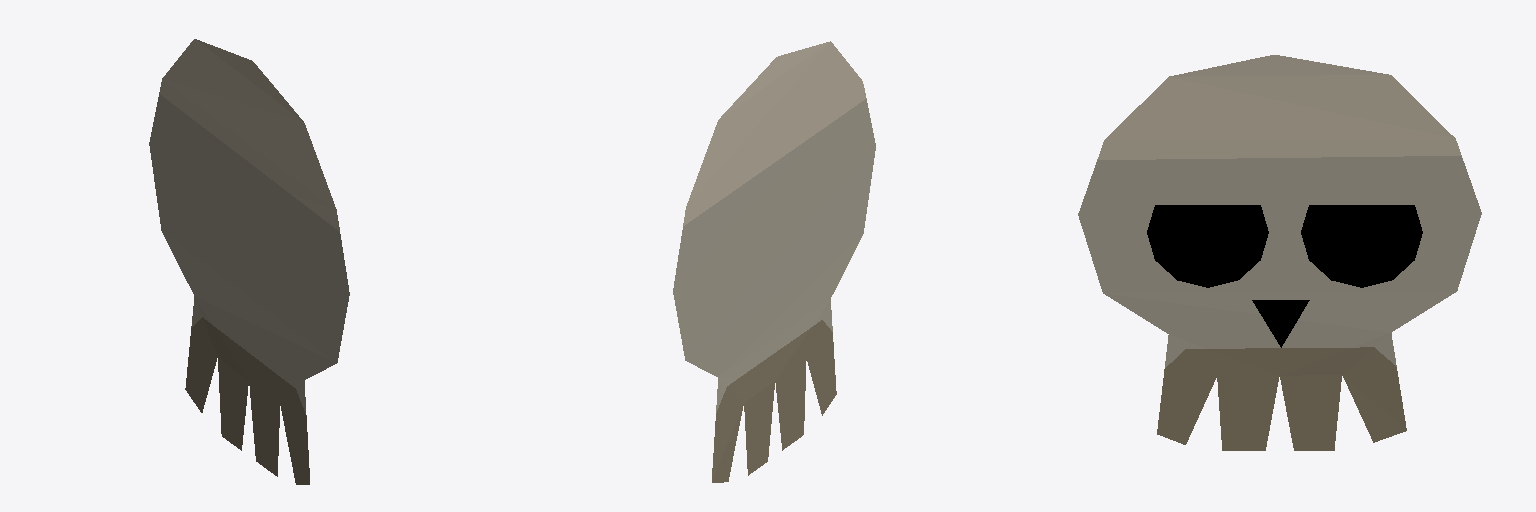
3 views of the same model, side by side, from view 1: azimuth 30°, elevation 25°; view 2: azimuth 150°, elevation 25°; view 3: azimuth 270°, elevation 25° (orthographic).
Visible parts, largest first — view 1: skull; view 2: skull; view 3: skull.
Part boxes in pixels (x1,y1,x2,y2): skull: (149, 39, 349, 484); skull: (673, 41, 875, 482); skull: (1078, 55, 1481, 450).
Size of the model in its own units: 0.6434 by 17.13 by 15.78.
Materials: 1 (1 with a texture image).